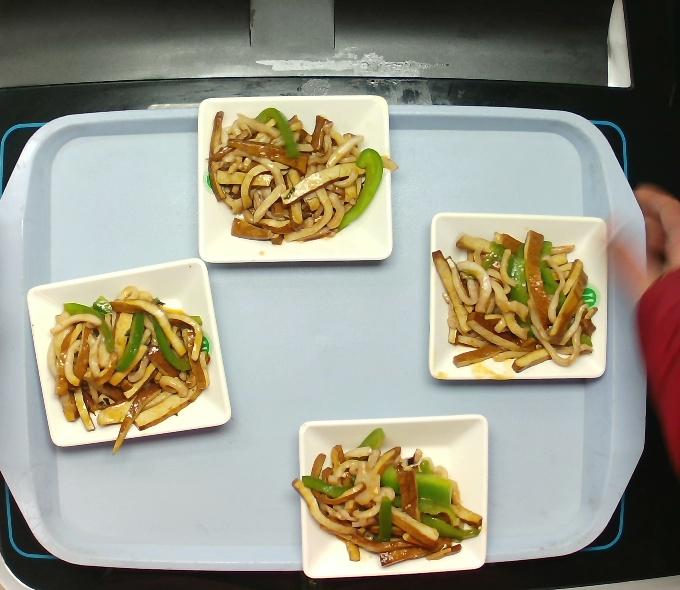wcq-XiangGanYouYu: (46, 272, 215, 462), (202, 93, 389, 258), (292, 423, 494, 568), (430, 223, 606, 379)
